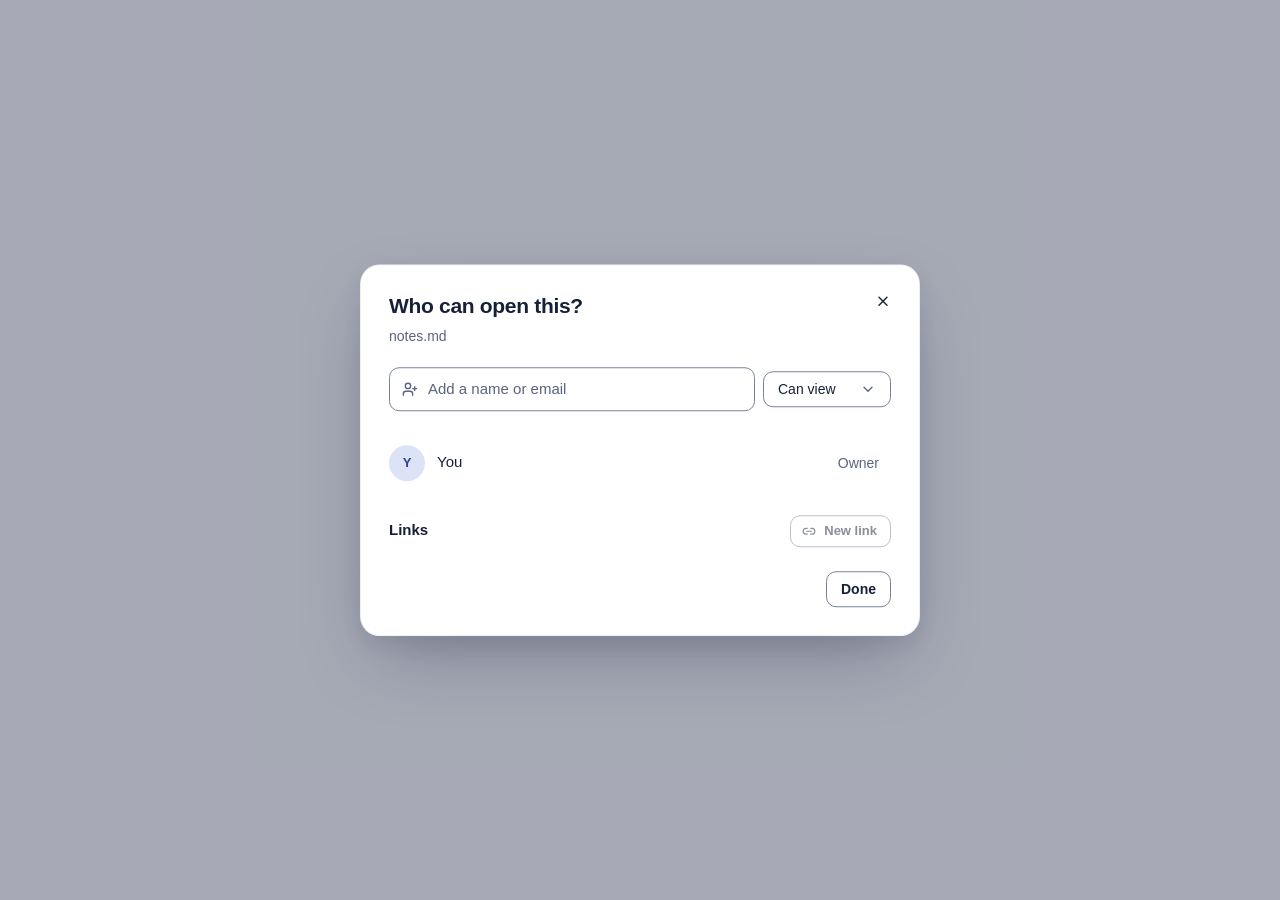
the share sheet › a share that met a changed account goes ahead after Continue, as asked
The image size is (1280, 900).
Press the mouse on the dropdown named "Add people" at [585, 389], box [428,368,742,410]
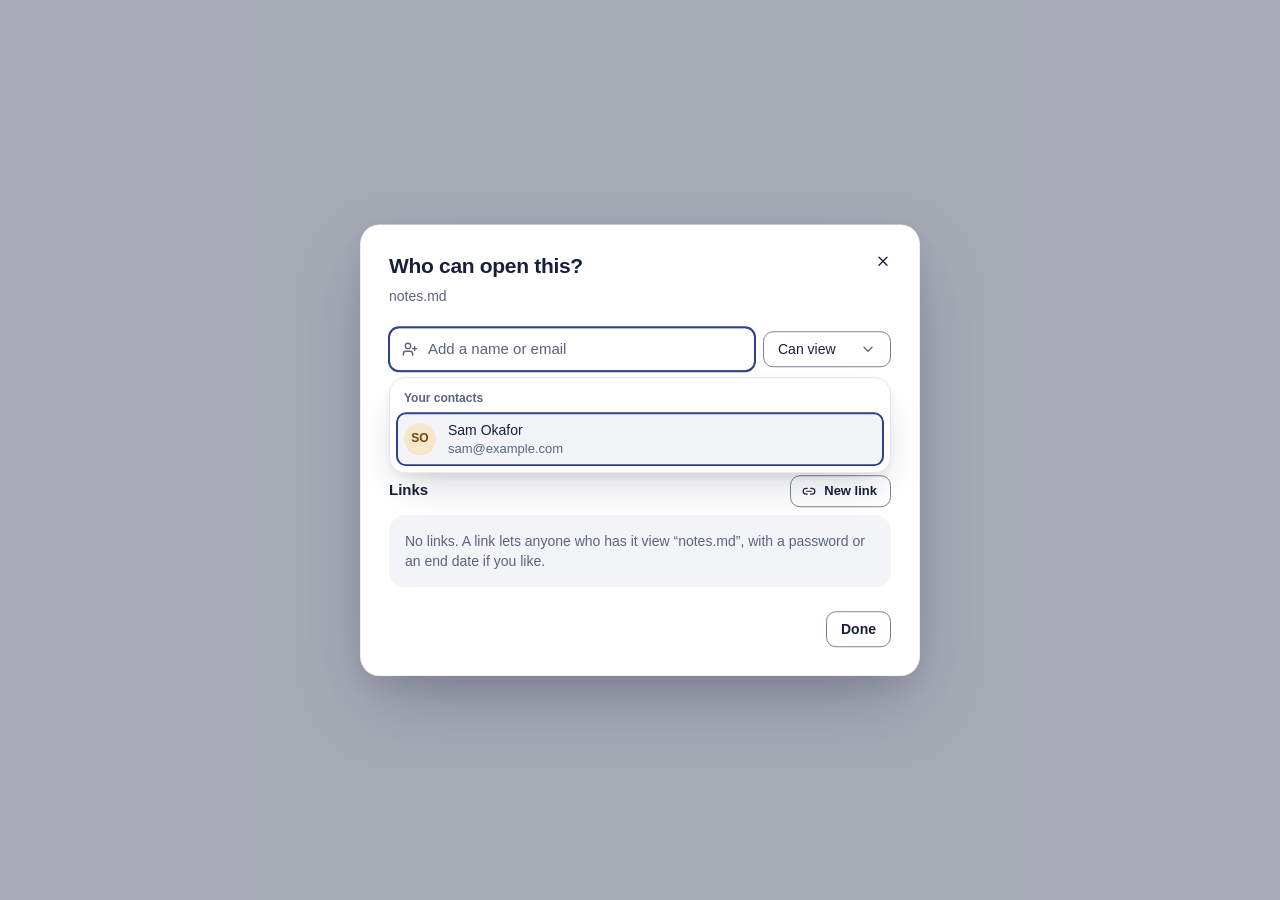
Click the option "SO Sam Okafor sam@example.com". click: [420, 439]
box: [396,412,884,466]
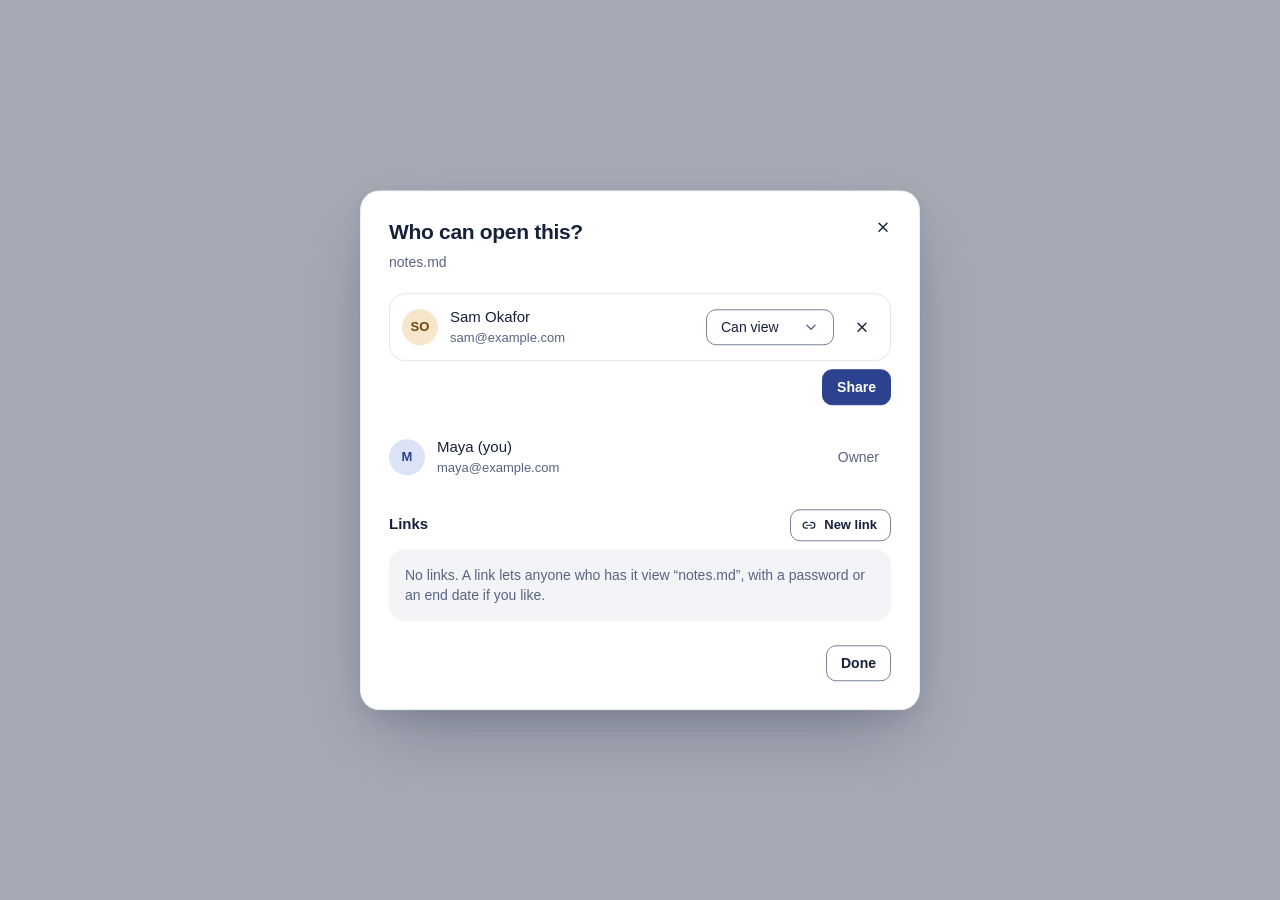
Click the dropdown named "What Sam Okafor can do". click: [770, 327]
box: [706,309,834,345]
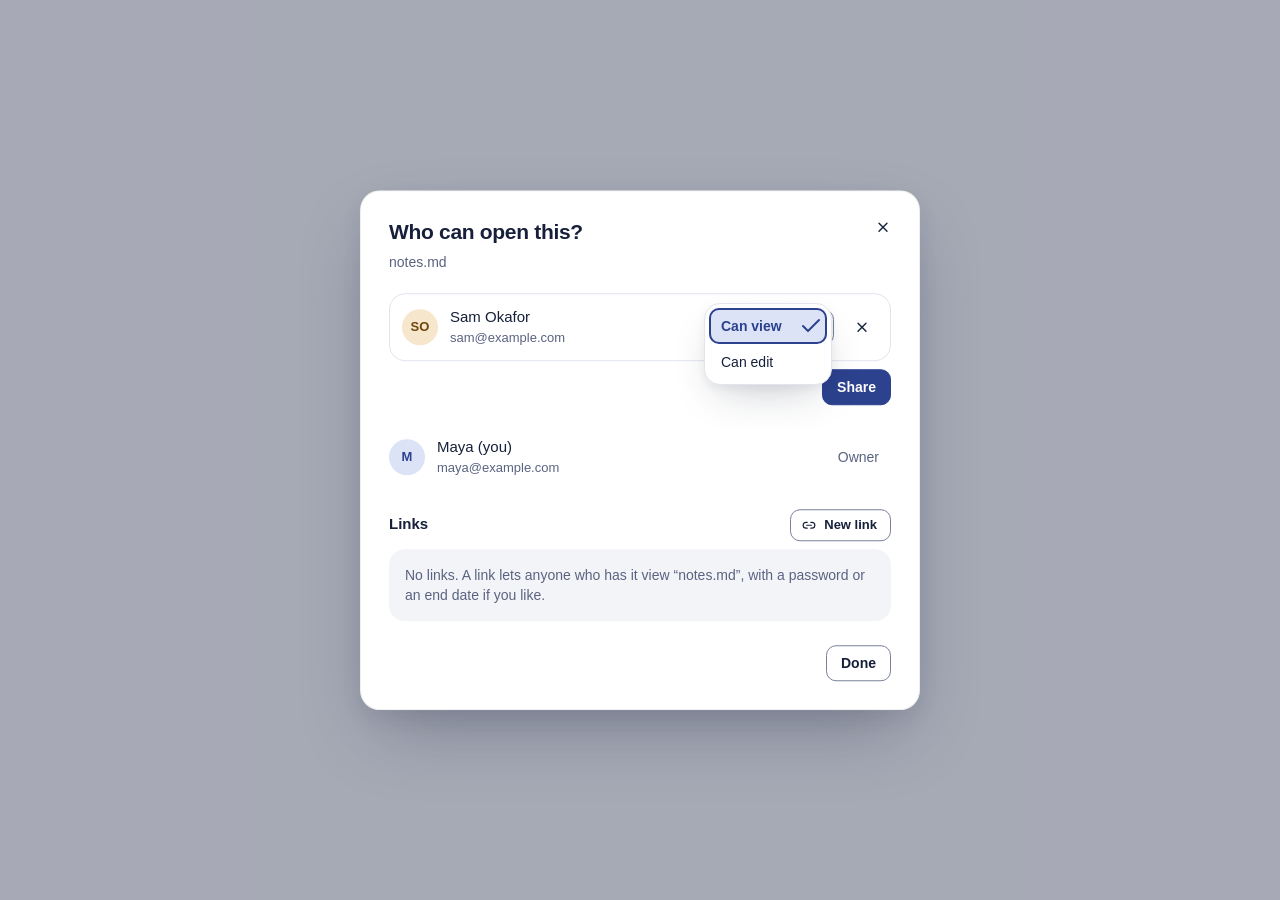
Click the option "Can edit". click: [747, 362]
box: [721,354,773,370]
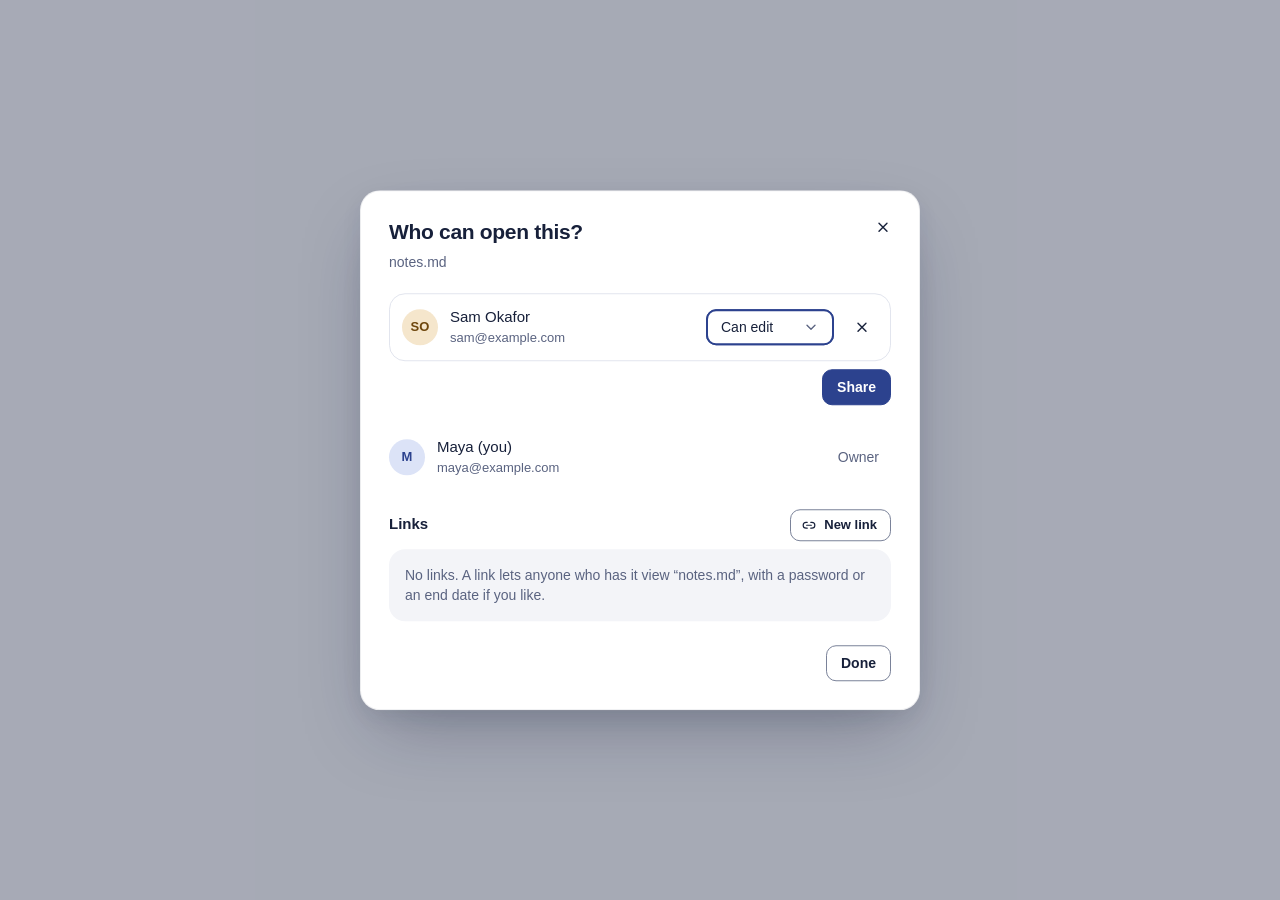
Check: the dropdown named "What Sam Okafor can do" shows "Can edit", box [706,309,834,345]
Click the button "Share". click: [857, 387]
box: [822,369,891,405]
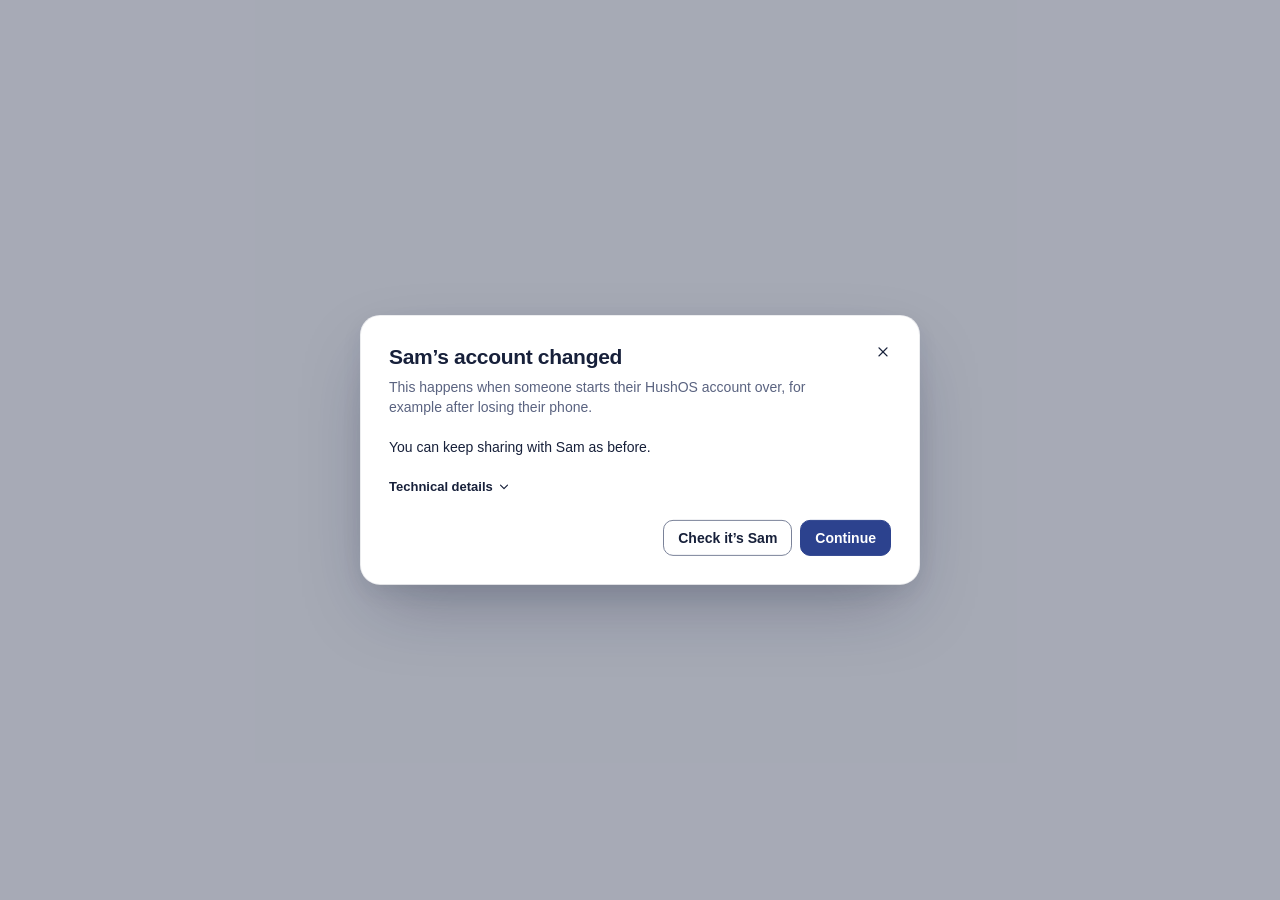
Check: the number of dialogs is 1, box [360,315,920,585]
Check: the heading "Sam’s account changed" is shown, box [389,345,622,368]
Check: the heading "Who can open this?" is gone
Click the button "Continue". click: [846, 538]
box: [800,520,891,556]
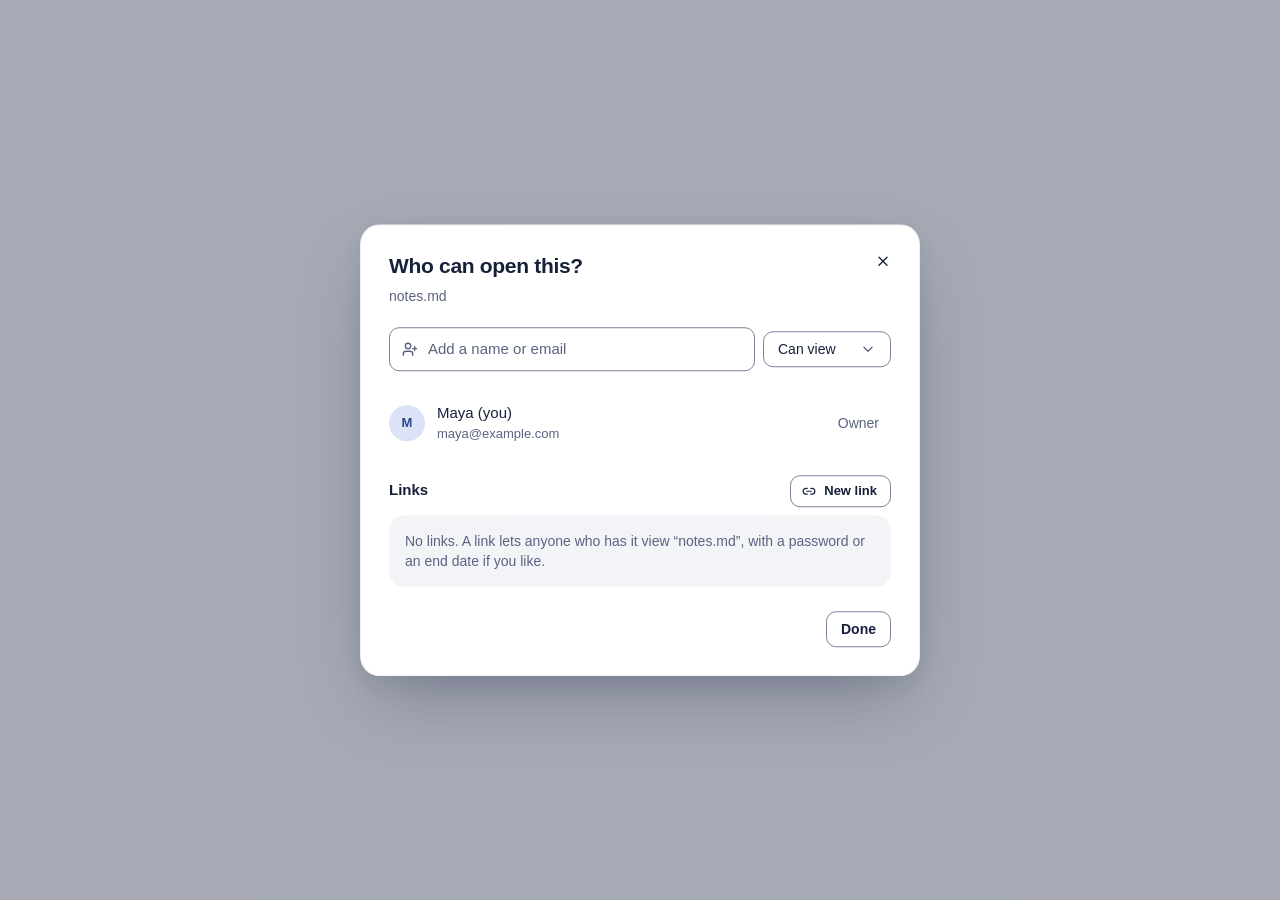
Check: the heading "Who can open this?" is shown, box [389,254,583,277]
